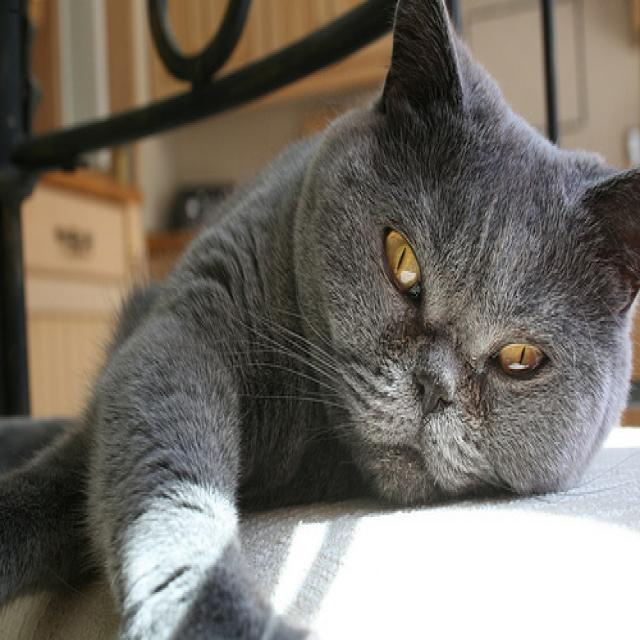British_Shorthair: (311, 0, 638, 505)
